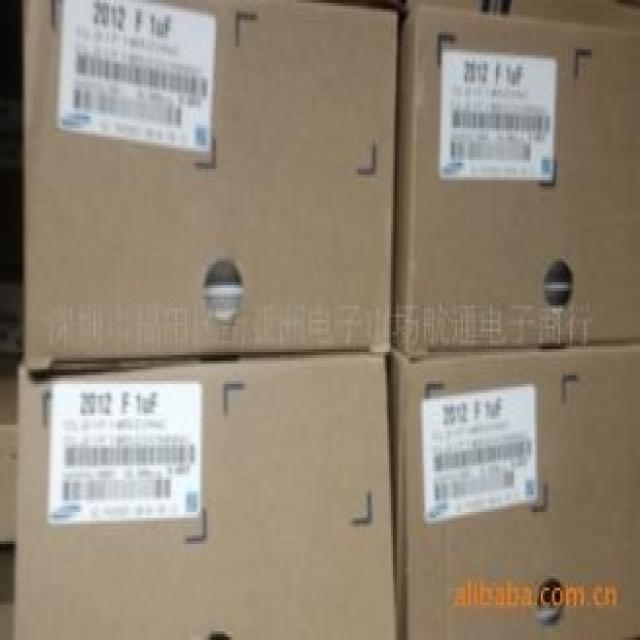box: (23, 0, 399, 372), (14, 355, 397, 640), (397, 0, 640, 358), (395, 349, 638, 640)
